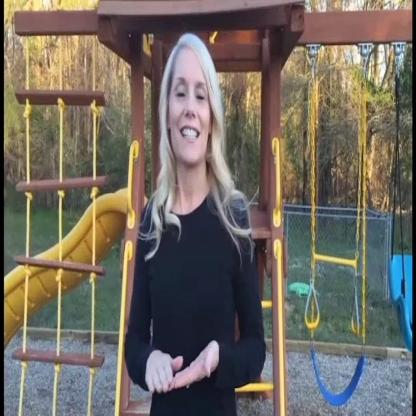ExcuseMe: (146, 318, 218, 413)
